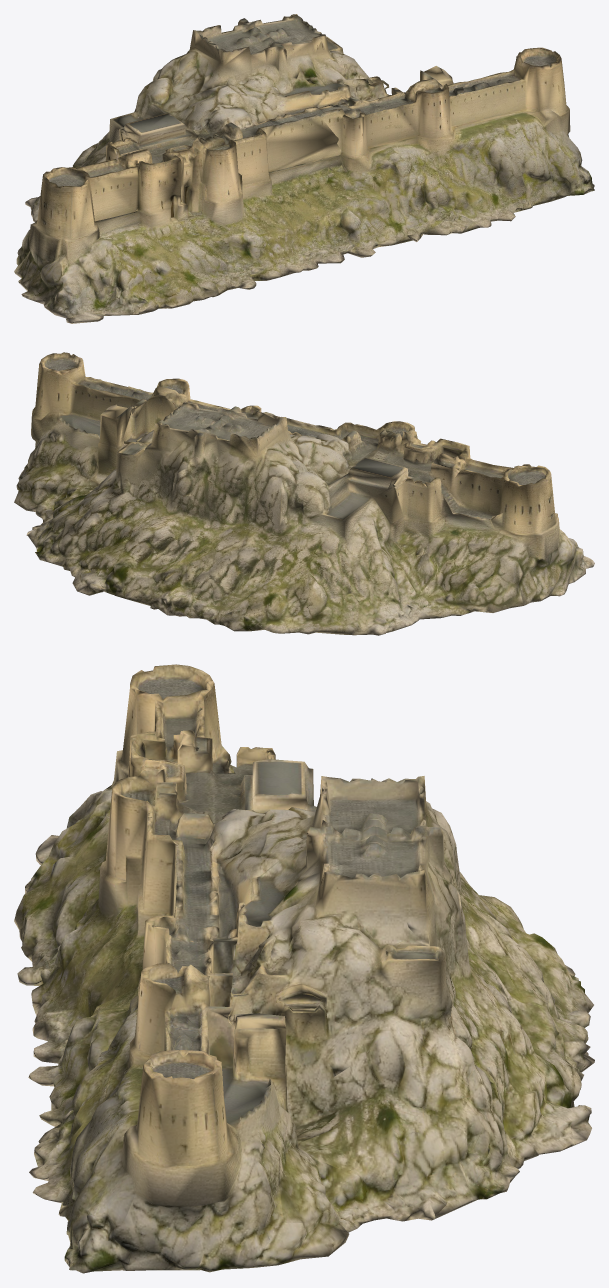
The model's file is city_van_castle.glb.
The picture shows the model from 3 angles, top to bottom: view 1: azimuth 30°, elevation 25°; view 2: azimuth 150°, elevation 25°; view 3: azimuth 270°, elevation 25°; orthographic projection. The views are drawn at different scales.
Parts seen in each view (by area): view 1: Mesh1.0; view 2: Mesh1.0; view 3: Mesh1.0.
Boxes of the visible parts, x1,y1,x2,y2 form: Mesh1.0: (14,14,594,323); Mesh1.0: (14,352,594,635); Mesh1.0: (14,664,594,1273).
Bounding box in the file's own units: 59.09 × 16 × 32.77.
Materials: 1 (1 with a texture image).
